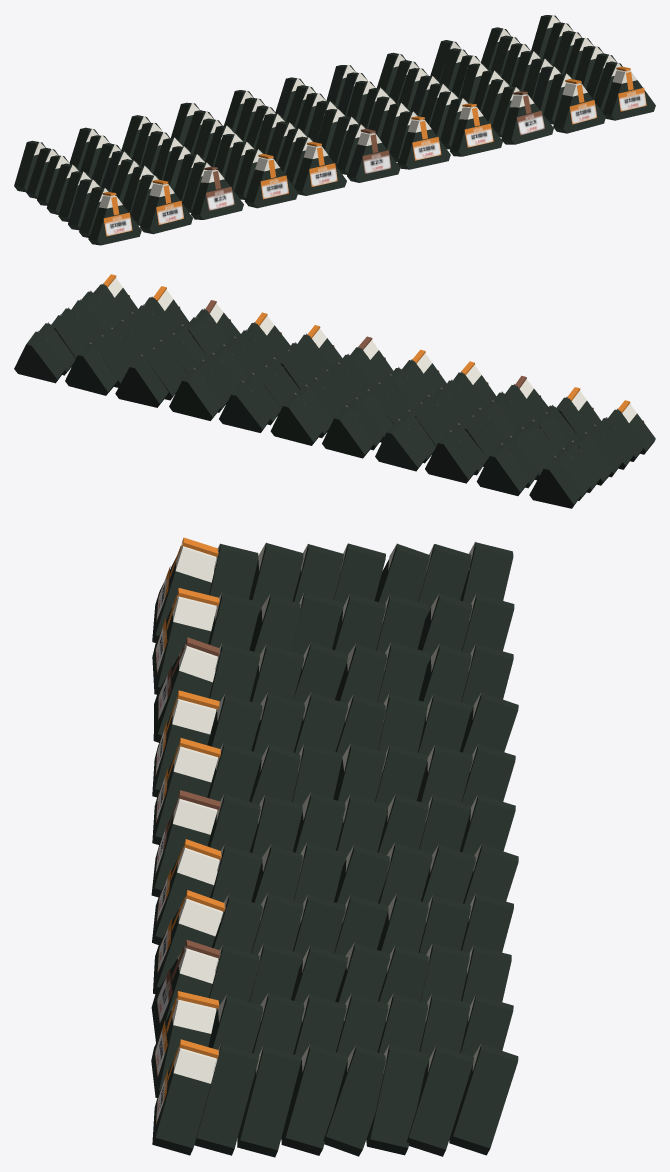
The model's file is SC_Prod_Row_Kimbap.gltf.
3 views of the same model, one above another, from view 1: azimuth 30°, elevation 25°; view 2: azimuth 150°, elevation 25°; view 3: azimuth 270°, elevation 25° (orthographic). The views are drawn at different scales.
Visible parts, largest first — view 1: SC_Prod_Row_Kimbap; view 2: SC_Prod_Row_Kimbap; view 3: SC_Prod_Row_Kimbap.
Boxes of the visible parts, x1,y1,x2,y2 form: SC_Prod_Row_Kimbap: [14, 15, 655, 245]; SC_Prod_Row_Kimbap: [14, 274, 655, 508]; SC_Prod_Row_Kimbap: [151, 537, 518, 1157].
Bounding box in the file's own units: 1.18 × 0.096 × 0.3344.
Materials: 2 (2 with a texture image).
